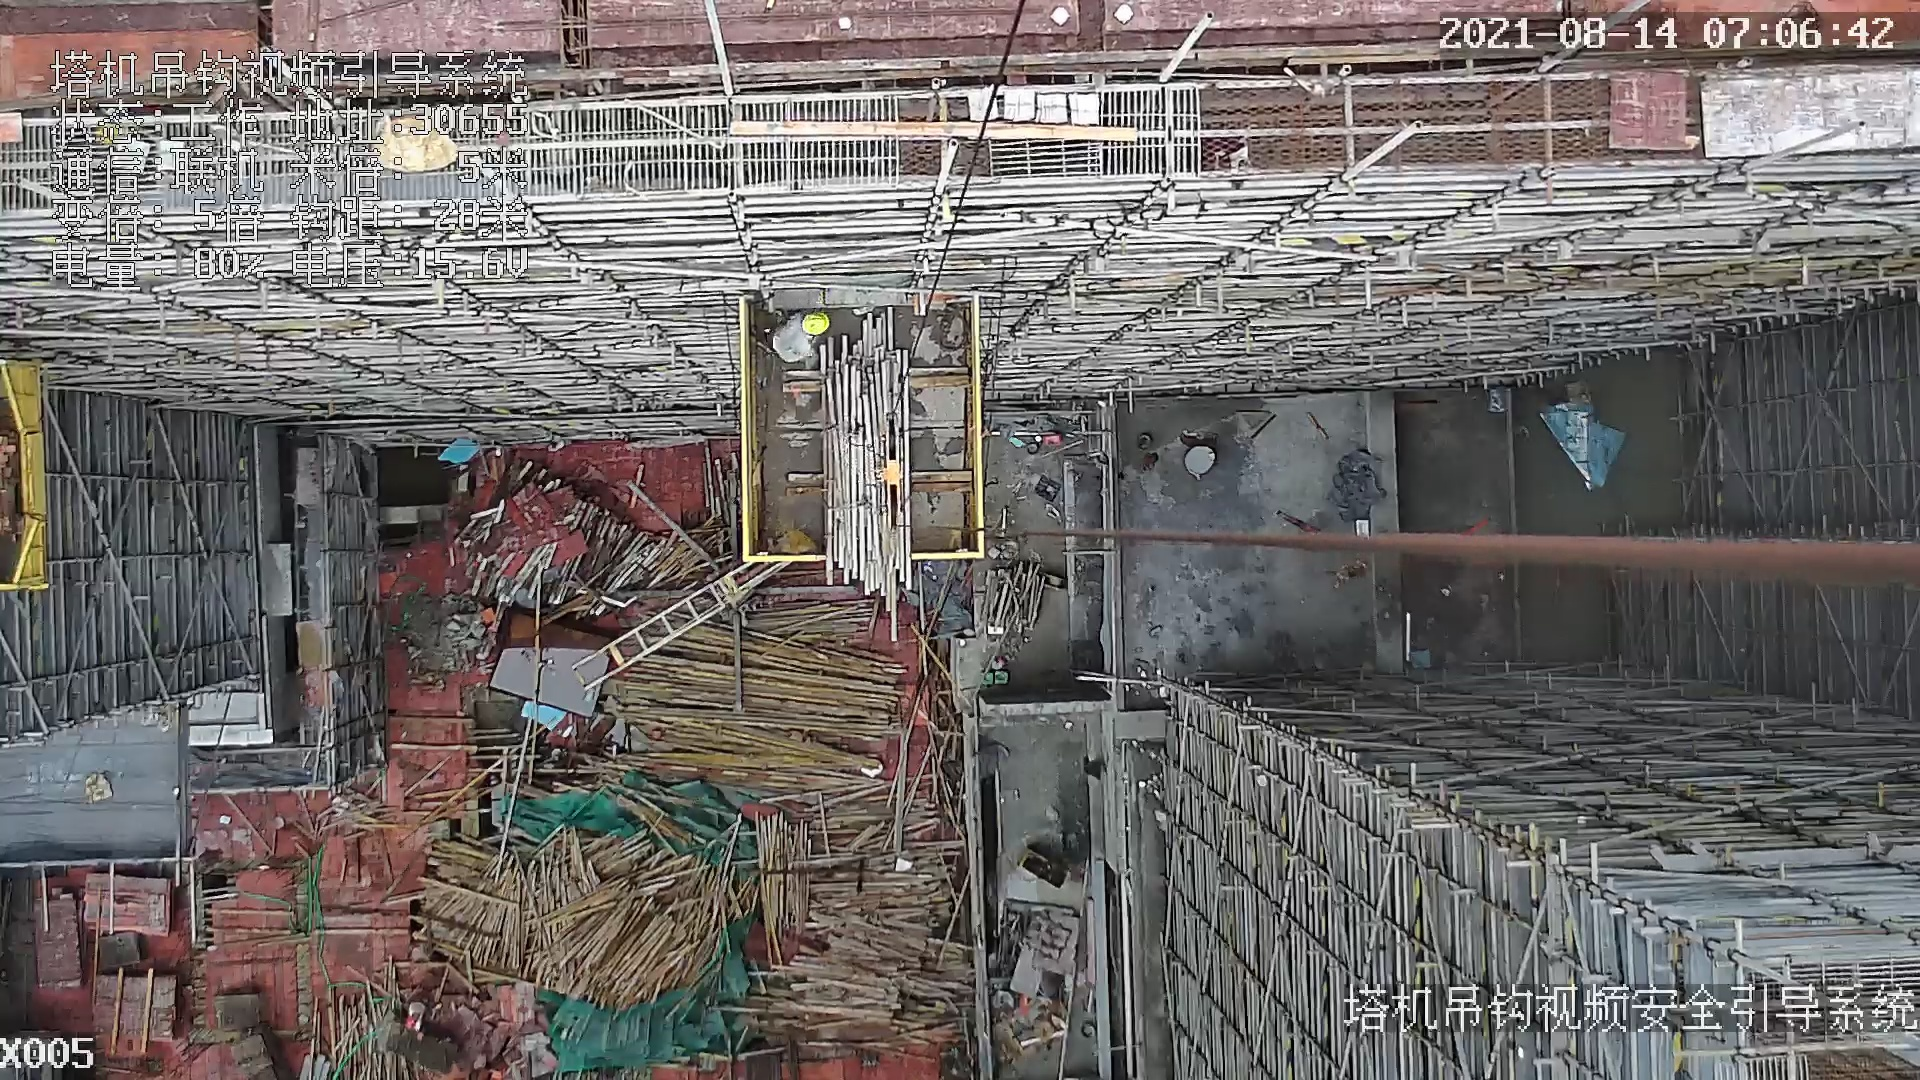helmet: (804, 312, 830, 337)
hook: (874, 410, 913, 533)
person: (773, 309, 832, 358)
